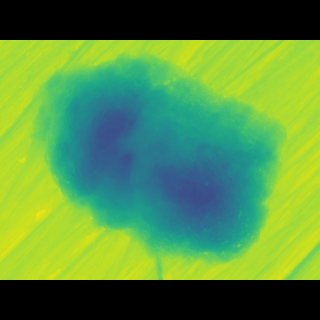Loch: (16, 78, 285, 240)
